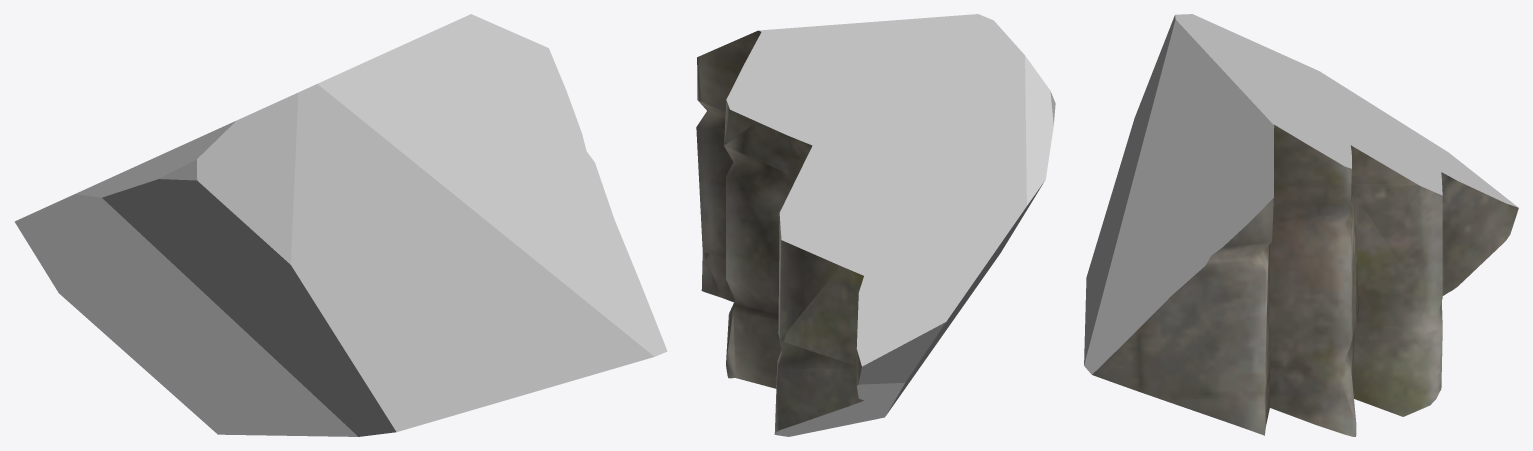
File: ColumnDamage08_42.fbx
3 renders of one model, left to right at view 1: azimuth 30°, elevation 25°; view 2: azimuth 150°, elevation 25°; view 3: azimuth 270°, elevation 25°, orthographic. The views are drawn at different scales.
Parts seen in each view (by area): view 1: ColumnDamage08_DM.042; view 2: ColumnDamage08_DM.042; view 3: ColumnDamage08_DM.042.
Boxes of the visible parts, x1,y1,x2,y2 form: ColumnDamage08_DM.042: (14,14,667,436); ColumnDamage08_DM.042: (696,14,1055,436); ColumnDamage08_DM.042: (1084,14,1518,436).
Bounding box in the file's own units: 147 × 141 × 154.
